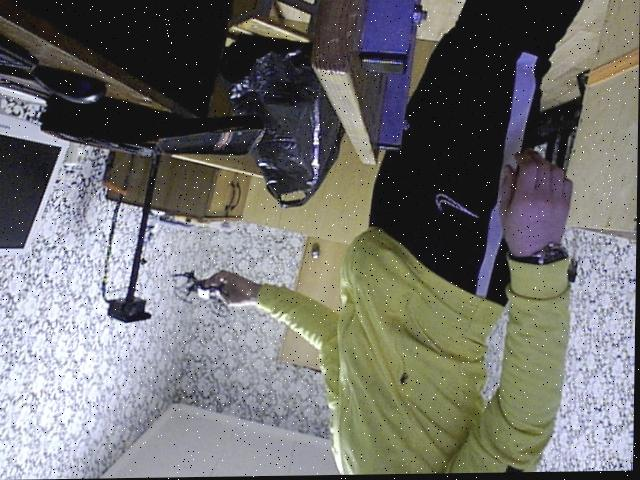drone: (170, 270, 239, 323)
